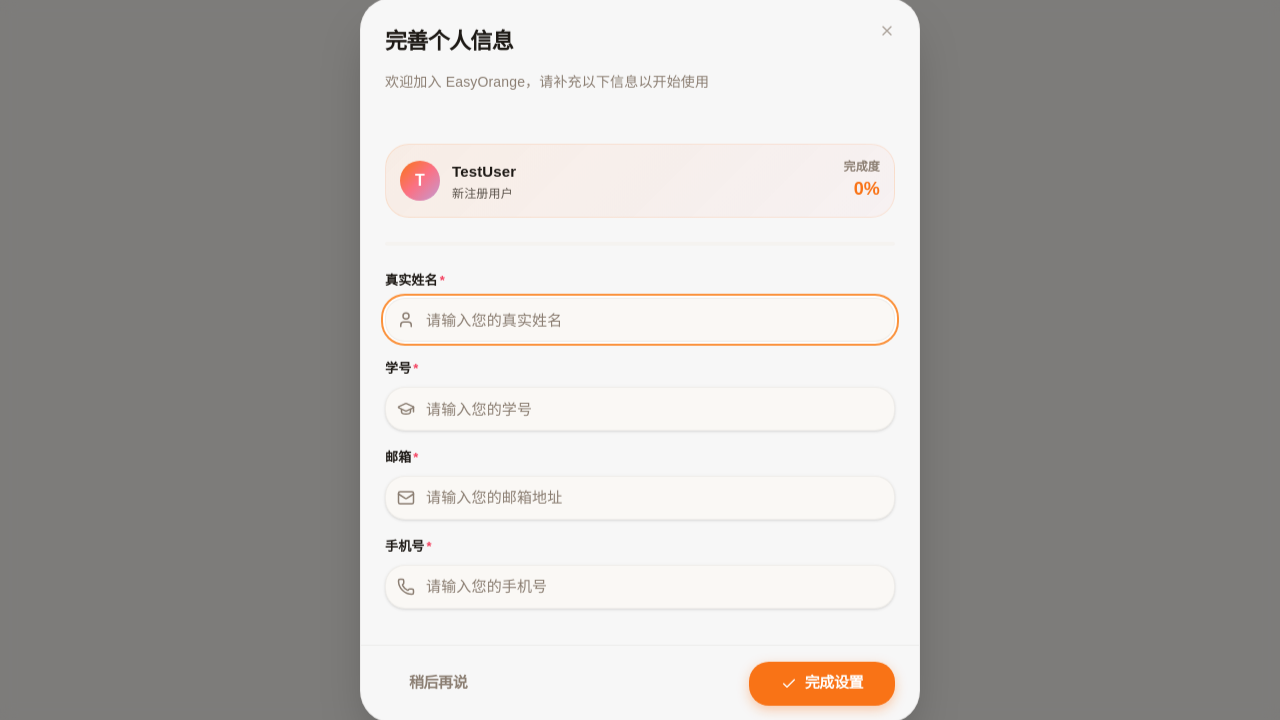
Test: ProfileSetupModal › shows validation error for invalid email format
Type "invalid-email" into the field with placeholder "请输入您的邮箱地址" at (640, 498), box [385,476,895,520]
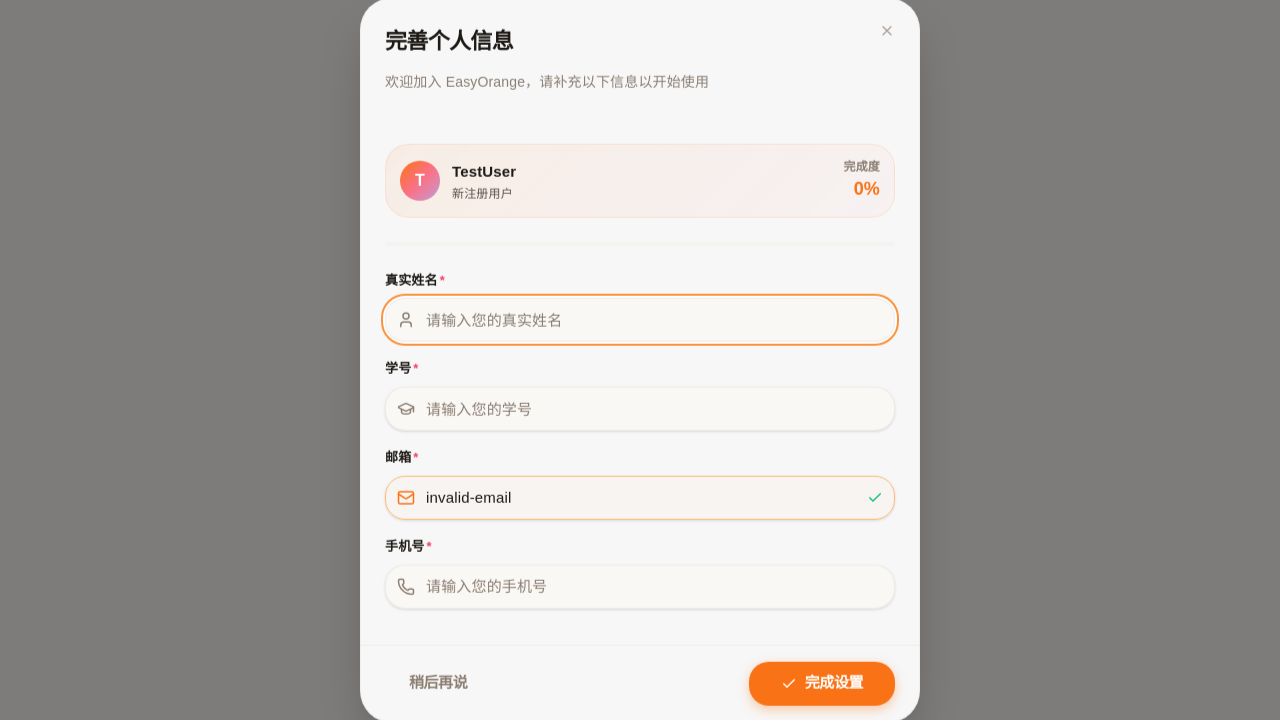
Leave the field with placeholder "请输入您的邮箱地址", box [385,476,895,520]
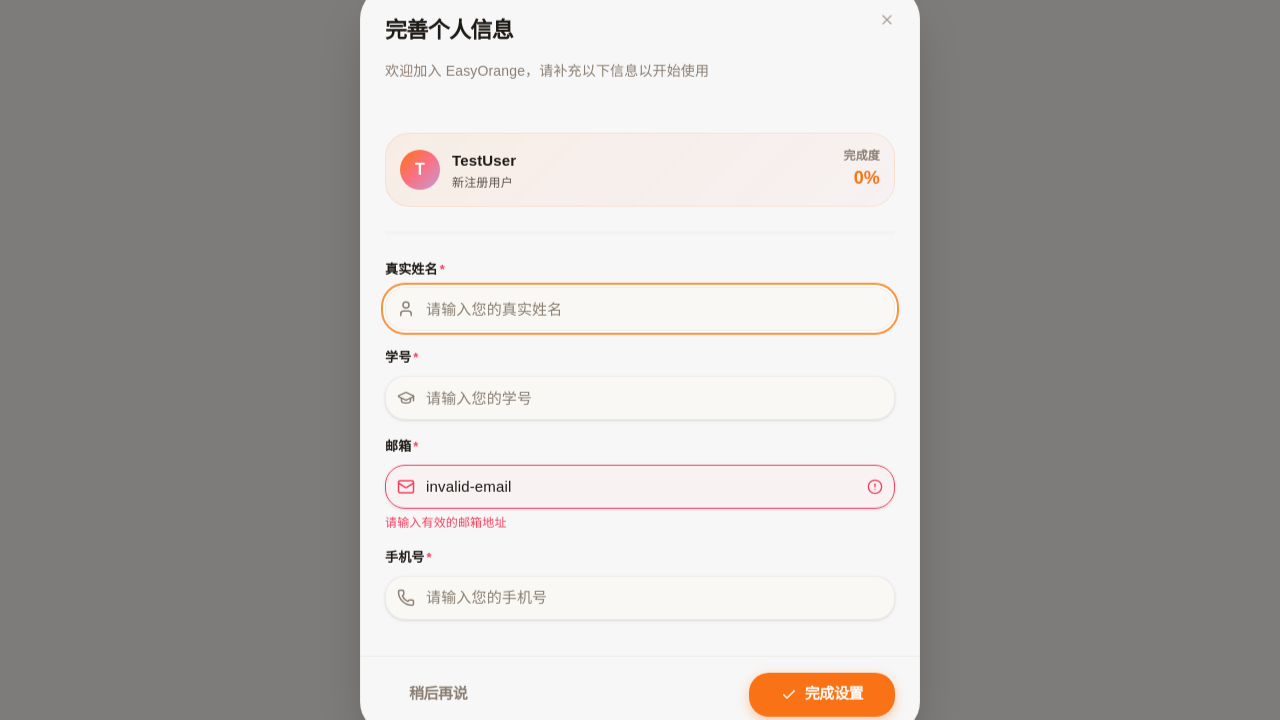
Result: the text "请输入有效的邮箱地址" is shown at [385,516,507,530]
